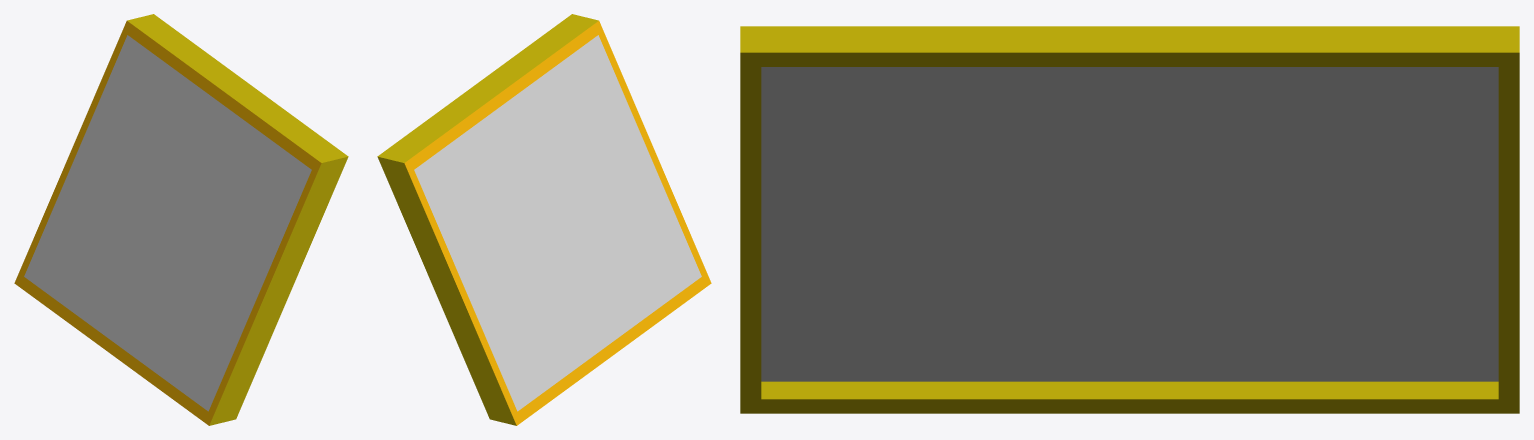
The model's file is window_slanted_3x1x2.dae.
3 renders of one model, left to right at view 1: azimuth 30°, elevation 25°; view 2: azimuth 150°, elevation 25°; view 3: azimuth 270°, elevation 25°, orthographic. The views are drawn at different scales.
Visible parts, largest first — view 1: Cube; view 2: Cube; view 3: Cube.
Part boxes in pixels (left/top/right/bottom): Cube: left=14, top=14, right=348, bottom=425; Cube: left=377, top=14, right=711, bottom=425; Cube: left=740, top=26, right=1519, bottom=413.
Bounding box in the file's own units: 0.31 × 0.75 × 0.5.
